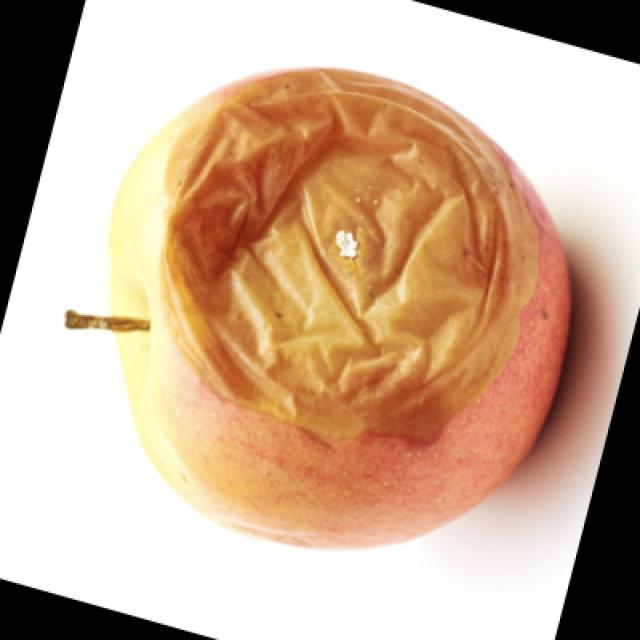Rotten: (113, 82, 592, 553)
